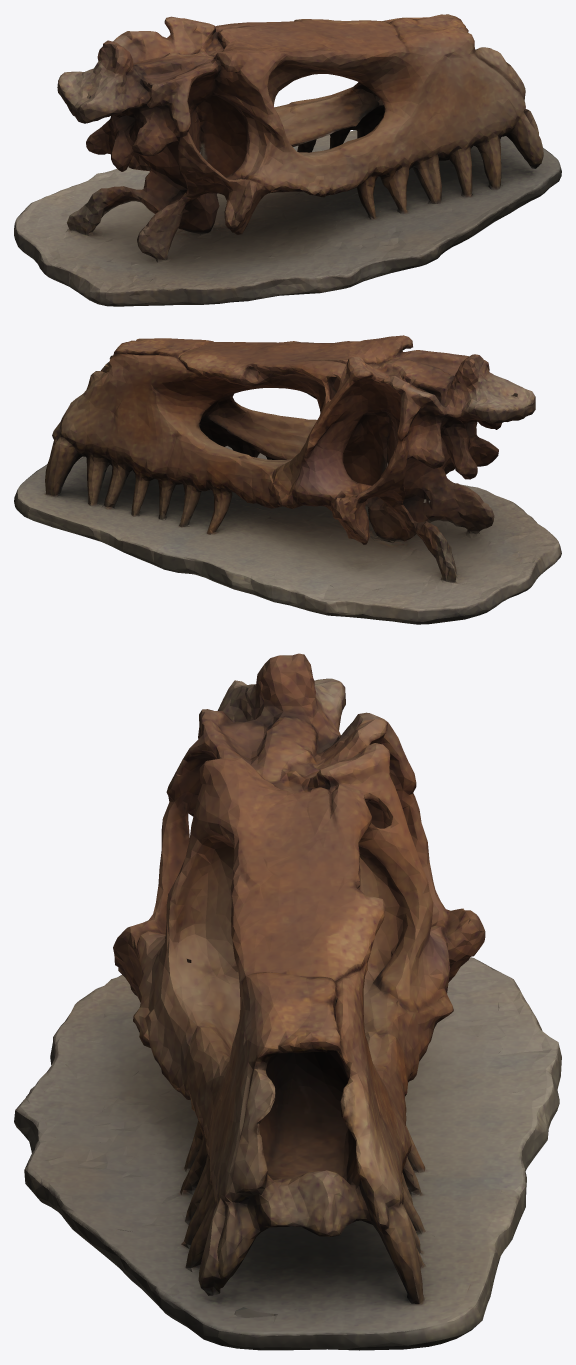
3 renders of one model, top to bottom at view 1: azimuth 30°, elevation 25°; view 2: azimuth 150°, elevation 25°; view 3: azimuth 270°, elevation 25°, orthographic. The views are drawn at different scales.
Visible parts, largest first — view 1: world; view 2: world; view 3: world.
Boxes of the visible parts, box(x1,y1,x2,y2) form: world: box(14, 14, 561, 306); world: box(14, 335, 561, 624); world: box(14, 653, 561, 1350).
Bounding box in the file's own units: 0.9958 × 0.4328 × 0.59.
1 material, 1 textured.
